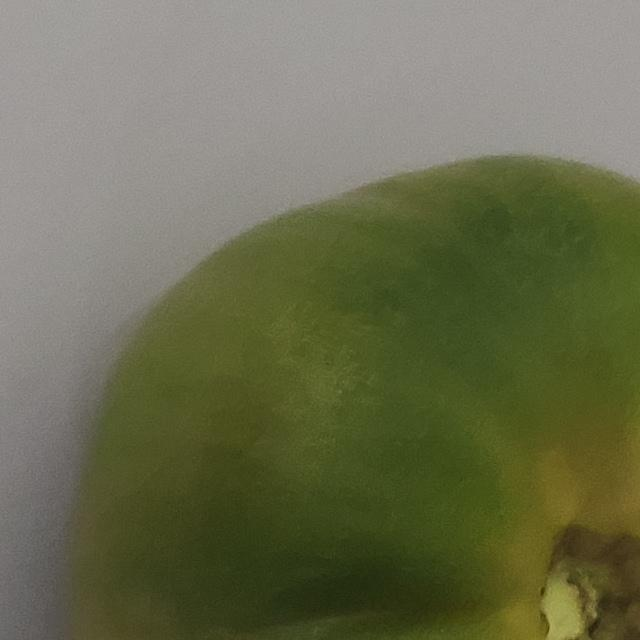tomato: (18, 124, 640, 640)
